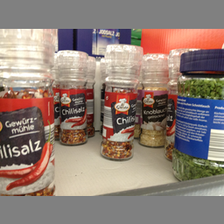spices: (1, 29, 56, 195), (174, 49, 224, 180), (99, 43, 142, 161), (55, 50, 91, 146), (140, 53, 166, 147)
